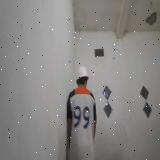Helmet: (76, 64, 90, 81)
